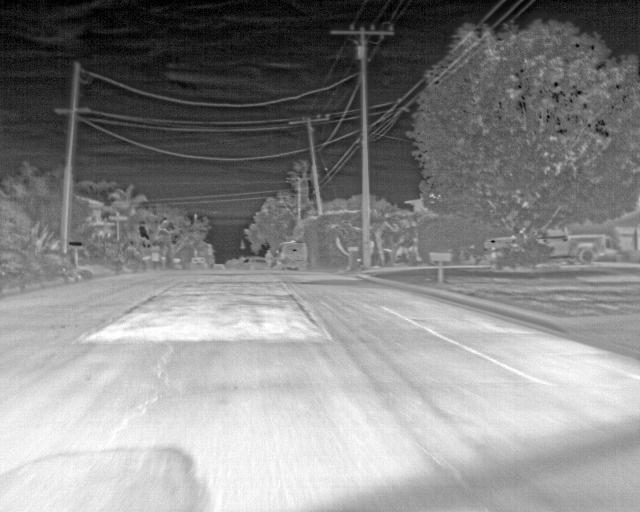car: (534, 221, 608, 263), (276, 240, 310, 274), (239, 254, 266, 269), (188, 255, 208, 272)
